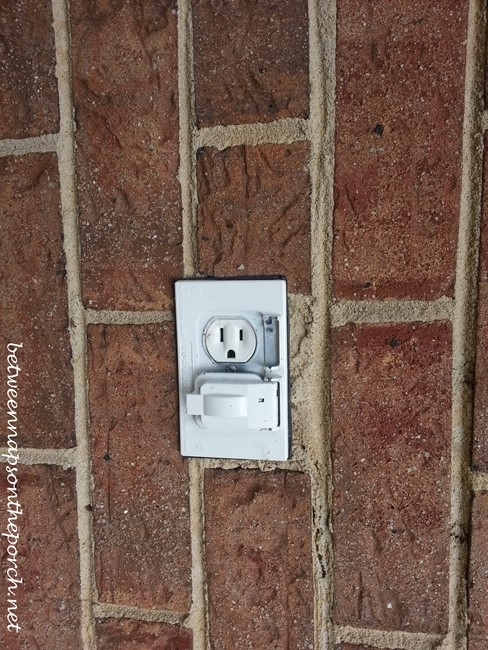outlet: (213, 320, 248, 365)
